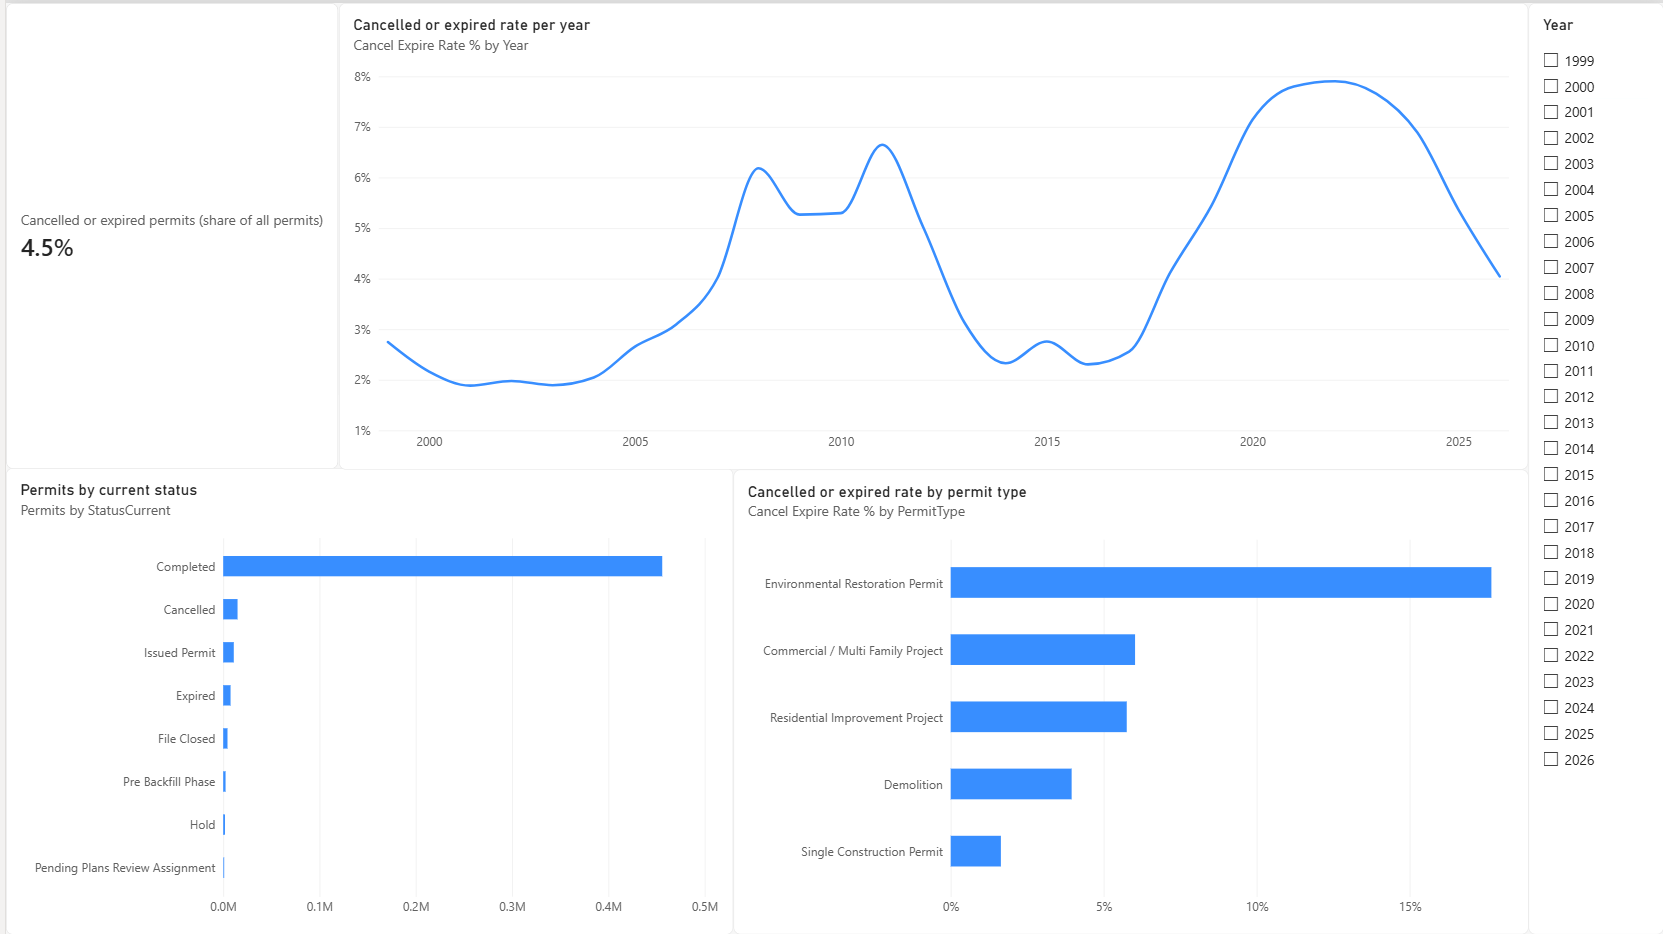

The page's visual inventory and layout, read from the dashboard file:
{"tool":"powerbi","page":{"name":"Outcomes","canvas":[1920,1080],"ordinal":4},"visuals":[{"type":"listSlicer","fields":{"Values":["Calendar.Year"]},"box":[1763.6,0,156.4,1079.4],"z":0},{"type":"cardVisual","title":"Cancelled or expired permits (share of all permits","fields":{"Data":["Permits.Cancel Expire Rate %"]},"box":[0,0,385.9,540.5],"z":1000},{"type":"clusteredBarChart","title":"Permits by current status","fields":{"Category":["Permits.StatusCurrent"],"Y":["Permits.Permits"]},"box":[0,538.8,843,540.5],"z":2000},{"type":"clusteredBarChart","title":"Cancelled or expired rate by permit type","fields":{"Category":["Permits.PermitType"],"Y":["Permits.Cancel Expire Rate %"]},"box":[841.8,538.6,921.2,538.8],"z":3000},{"type":"lineChart","title":"Cancelled or expired rate per year","fields":{"Category":["Calendar.Year"],"Y":["Permits.Cancel Expire Rate %"]},"box":[385.9,0,1378.3,540.5],"z":4000},{"type":"listSlicer","fields":{"Values":["Calendar.Year"]},"box":[1763.6,0.6,156.4,1079.4],"z":5000},{"type":"listSlicer","fields":{"Values":["Calendar.Year"]},"box":[1763.6,0.6,156.4,1079.4],"z":5001}]}

Visuals, with their boxes in screenshot pixels (x1, y1, x2, y2), scaled from the page's 1920x1080 canvas onto the 1663x934 screenshot:
listSlicer - Calendar.Year: 1528, 0, 1662, 933
"Cancelled or expired permits (share of all permits" cardVisual: 0, 0, 334, 467
"Permits by current status" clusteredBarChart: 0, 466, 730, 933
"Cancelled or expired rate by permit type" clusteredBarChart: 729, 466, 1527, 932
"Cancelled or expired rate per year" lineChart: 334, 0, 1528, 467
listSlicer - Calendar.Year: 1528, 1, 1662, 933
listSlicer - Calendar.Year: 1528, 1, 1662, 933
